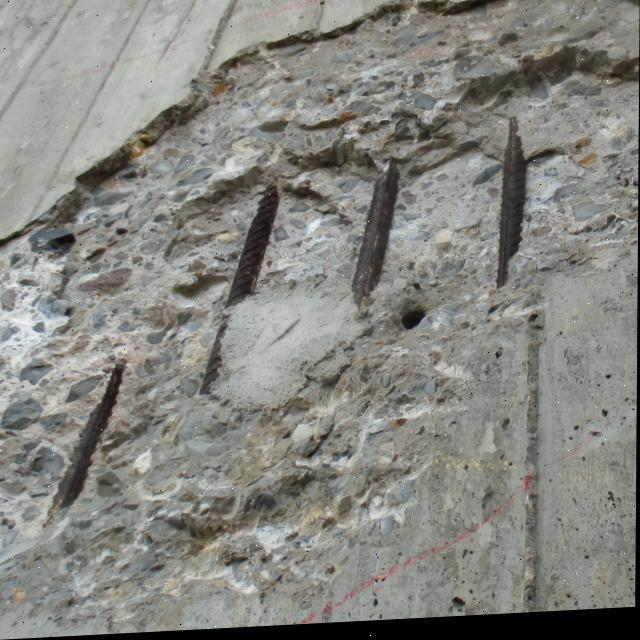D0w0: (2, 0, 633, 589)
